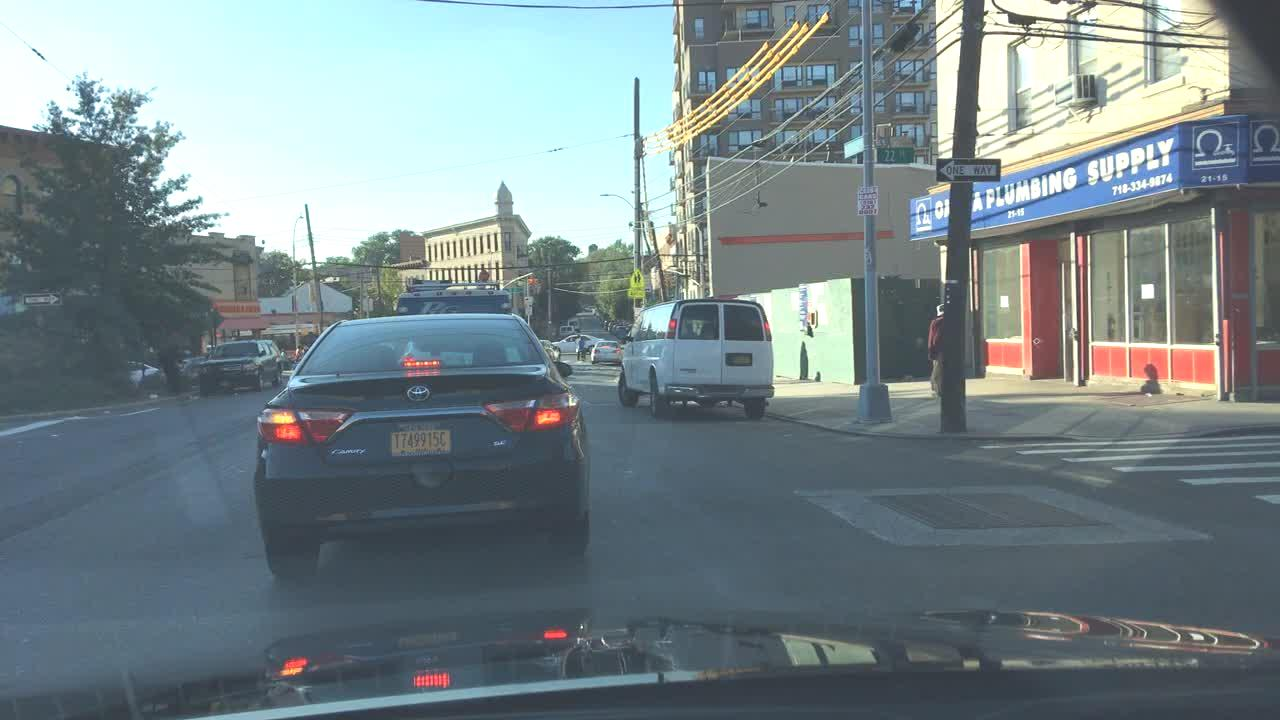Toyota: (402, 381, 438, 405)
